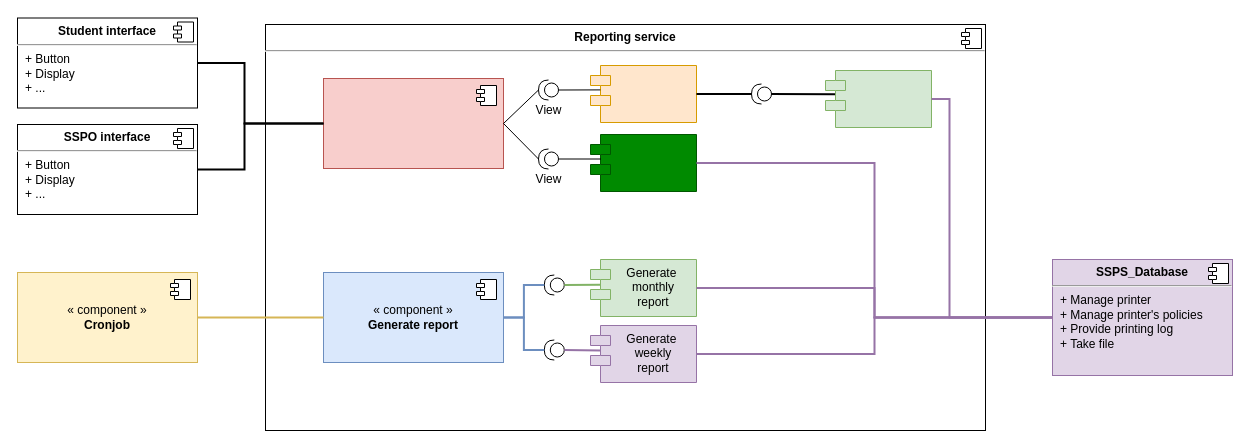
The diagram is 1250 pixels wide and 448 high, and some of its shapes have lost their labels. The shapes that lost their labels are listed below. From the top down, each one's centre as x and y in pixels, then its label:
(x=643, y=93): Manually report
(x=761, y=93): Report
(x=878, y=99): Manual Report generator
(x=413, y=123): «Component» View Report
(x=643, y=163): Automated Generated report
